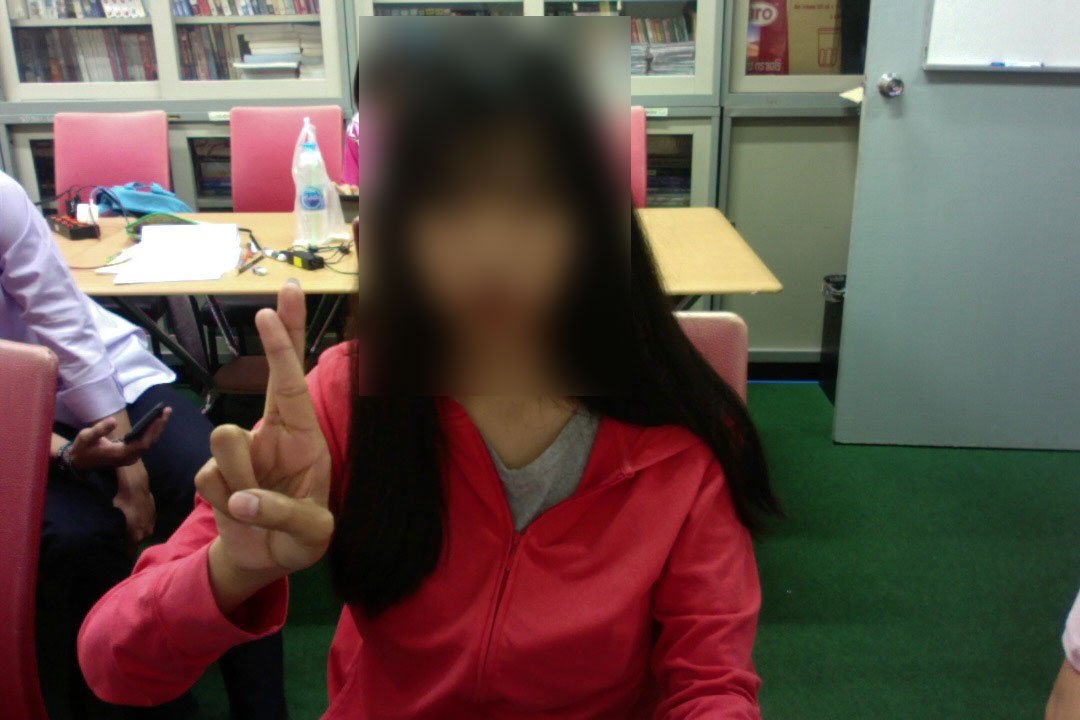rao: (180, 280, 353, 583)
